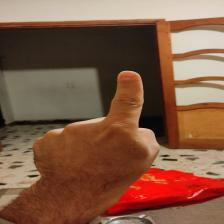one: (31, 71, 163, 191)
